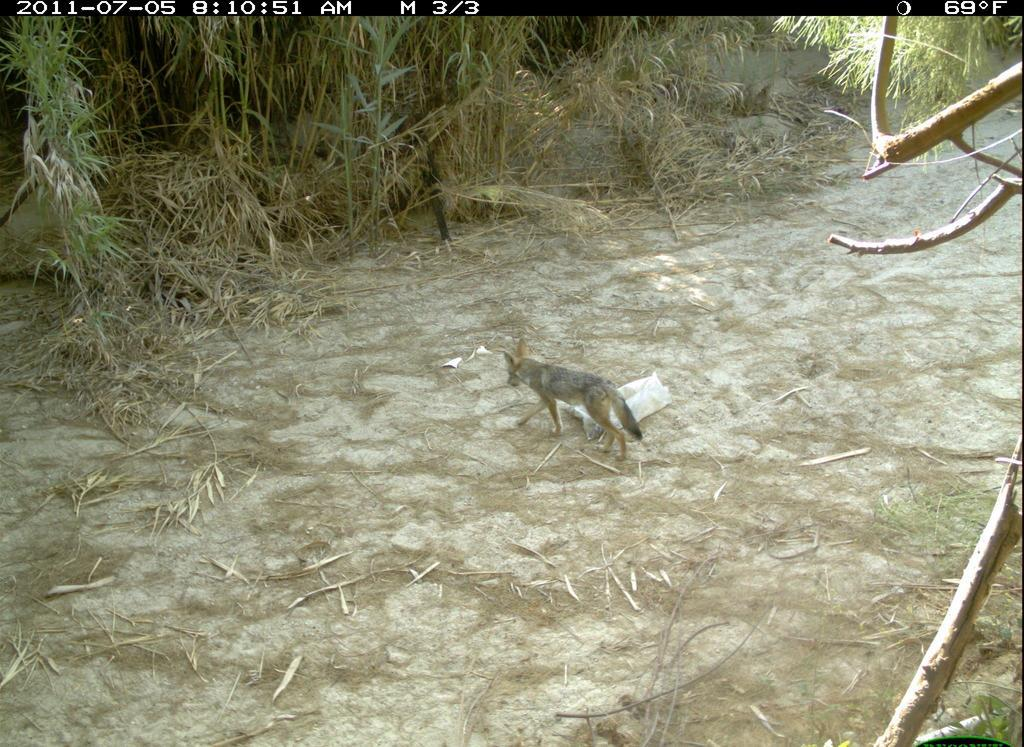coyote: (505, 338, 647, 465)
